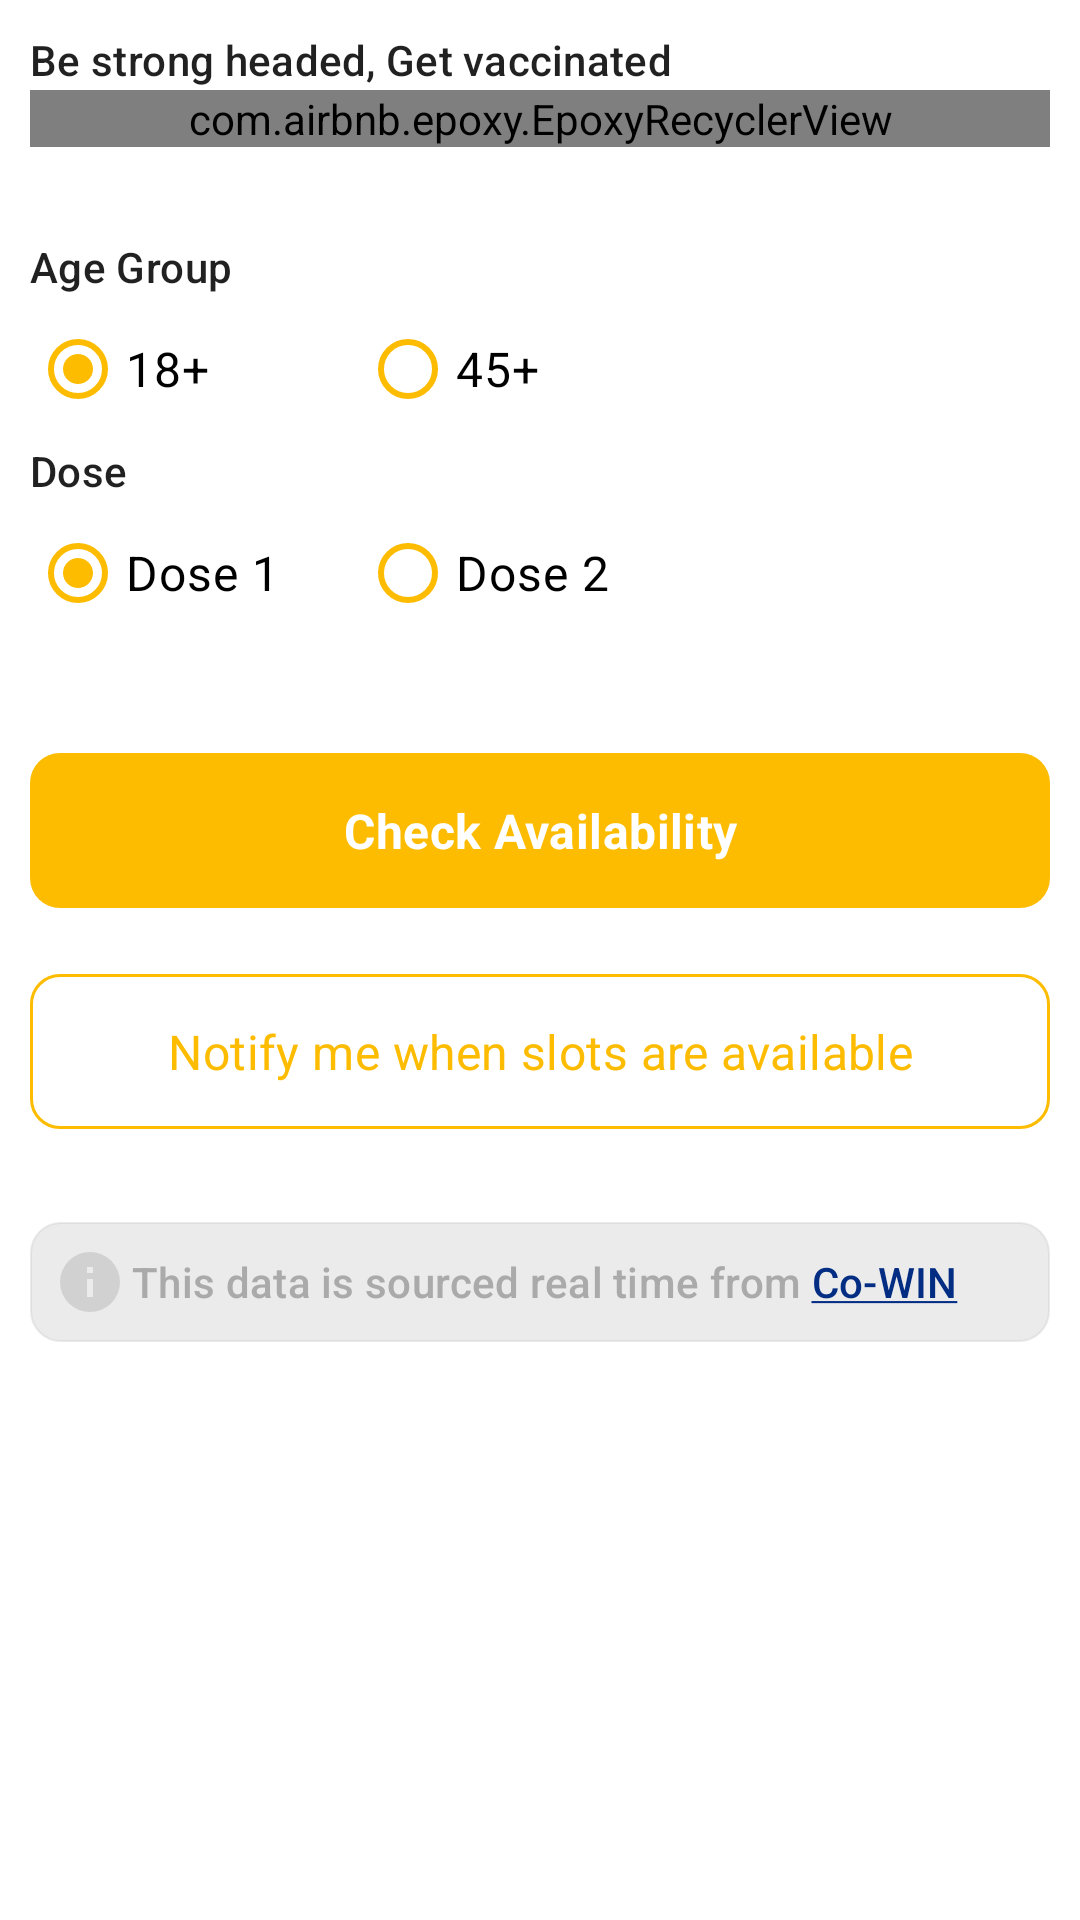

Named icons in this screenshot (1080 x 1920) and their centers, point (x, y):
information: point (90, 1282)
